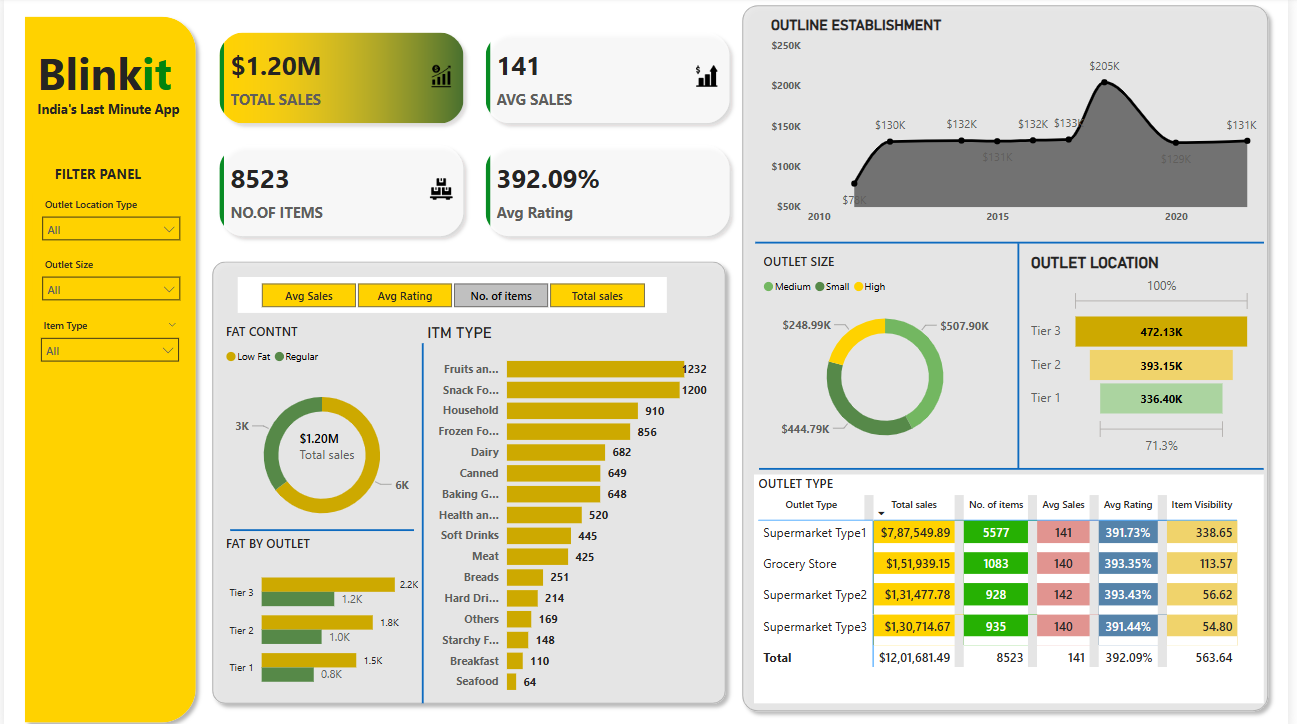

The dashboard page shown, as its layout file describes it:
{"tool":"powerbi","page":{"name":"Page 1","canvas":[1400,800],"ordinal":0},"visuals":[{"type":"shape","box":[13.6,12.3,204.5,788],"z":0},{"type":"textbox","box":[31.4,45,186.8,75],"z":1000},{"type":"textbox","box":[31.4,107.7,170.4,83.2],"z":2000},{"type":"cardVisual","fields":{"Data":["BlinkIT Grocery Data.Total sales","BlinkIT Grocery Data.Avg Sales","BlinkIT Grocery Data.No. of items","BlinkIT Grocery Data.Avg Rating"]},"box":[218.1,21.8,591.7,257.7],"z":3000},{"type":"shape","box":[218.1,279.5,578.1,500.3],"z":4000},{"type":"donutChart","title":"FAT CONTNT ","fields":{"Y":["BlinkIT Grocery Data.No. of items"],"Category":["BlinkIT Grocery Data.Item Fat Content"]},"box":[237.2,355.8,219.5,242.7],"z":5000},{"type":"slicer","fields":{"Values":["Metrics.Metrics"]},"box":[254.9,305.4,467.6,39.5],"z":6000},{"type":"cardVisual","fields":{"Data":["BlinkIT Grocery Data.Total sales"]},"box":[305.4,441.7,113.2,96.8],"z":7000},{"type":"clusteredBarChart","title":"FAT BY OUTLET","fields":{"Y":["BlinkIT Grocery Data.No. of items"],"Category":["BlinkIT Grocery Data.Outlet Location Type"],"Series":["BlinkIT Grocery Data.Item Fat Content"]},"box":[237.2,586.2,219.5,184.1],"z":8000},{"type":"shape","box":[246.8,576.7,200.4,9.5],"z":9000},{"type":"barChart","title":"ITM TYPE","fields":{"Y":["BlinkIT Grocery Data.No. of items"],"Category":["BlinkIT Grocery Data.Item Type"]},"box":[456.7,355.8,314.9,414.5],"z":10000},{"type":"shape","box":[444.4,377.6,24.5,392.6],"z":11000},{"type":"shape","box":[796.2,0,591.7,788],"z":12000},{"type":"lineChart","title":"OUTLINE ESTABLISHMENT","fields":{"Y":["BlinkIT Grocery Data.Total sales"],"Category":["BlinkIT Grocery Data.Outlet Establishment Year"]},"box":[831.6,21.8,542.6,234.5],"z":13000},{"type":"shape","box":[819.4,256.3,554.9,23.2],"z":14000},{"type":"donutChart","title":"OUTLET SIZE","fields":{"Y":["BlinkIT Grocery Data.Total sales"],"Category":["BlinkIT Grocery Data.Outlet Size"]},"box":[823.5,279.5,275.4,225],"z":15000},{"type":"shape","box":[1097.5,268.6,17.7,245.4],"z":16000},{"type":"funnel","title":"OUTLET LOCATION ","fields":{"Category":["BlinkIT Grocery Data.Outlet Location Type"],"Y":["Sum(BlinkIT Grocery Data.Sales)"]},"box":[1115.2,279.5,250.9,225],"z":17000},{"type":"shape","box":[823.5,508.5,550.8,12.3],"z":18000},{"type":"pivotTable","title":"OUTLET TYPE","fields":{"Rows":["BlinkIT Grocery Data.Outlet Type"],"Values":["BlinkIT Grocery Data.Total sales","BlinkIT Grocery Data.No. of items","BlinkIT Grocery Data.Avg Sales","BlinkIT Grocery Data.Avg Rating","Sum(BlinkIT Grocery Data.Item Visibility)"]},"box":[818,520.8,556.2,249.5],"z":19000},{"type":"slicer","fields":{"Values":["BlinkIT Grocery Data.Outlet Location Type"]},"box":[31.4,214,170.4,69.5],"z":20000},{"type":"slicer","fields":{"Values":["BlinkIT Grocery Data.Outlet Size"]},"box":[31.4,279.5,170.4,66.8],"z":21000},{"type":"slicer","fields":{"Values":["BlinkIT Grocery Data.Item Type"]},"box":[30,346.3,170.4,69.5],"z":22000},{"type":"textbox","box":[50.4,177.2,349,36.8],"z":23000}]}

Visuals, with their boxes in screenshot pixels (x1, y1, x2, y2), scaled from the page's 1400x800 canvas onto the 1297x724 screenshot:
shape: x1=13 y1=11 x2=202 y2=723
textbox: x1=29 y1=41 x2=202 y2=109
textbox: x1=29 y1=97 x2=187 y2=173
cardVisual - BlinkIT Grocery Data.Total sales x BlinkIT Grocery Data.Avg Sales: x1=202 y1=20 x2=750 y2=253
shape: x1=202 y1=253 x2=738 y2=706
"FAT CONTNT " donutChart: x1=220 y1=322 x2=423 y2=542
slicer - Metrics.Metrics: x1=236 y1=276 x2=669 y2=312
cardVisual - BlinkIT Grocery Data.Total sales: x1=283 y1=400 x2=388 y2=487
"FAT BY OUTLET" clusteredBarChart: x1=220 y1=531 x2=423 y2=697
shape: x1=229 y1=522 x2=414 y2=531
"ITM TYPE" barChart: x1=423 y1=322 x2=715 y2=697
shape: x1=412 y1=342 x2=434 y2=697
shape: x1=738 y1=0 x2=1286 y2=713
"OUTLINE ESTABLISHMENT" lineChart: x1=770 y1=20 x2=1273 y2=232
shape: x1=759 y1=232 x2=1273 y2=253
"OUTLET SIZE" donutChart: x1=763 y1=253 x2=1018 y2=457
shape: x1=1017 y1=243 x2=1033 y2=465
"OUTLET LOCATION " funnel: x1=1033 y1=253 x2=1266 y2=457
shape: x1=763 y1=460 x2=1273 y2=471
"OUTLET TYPE" pivotTable: x1=758 y1=471 x2=1273 y2=697
slicer - BlinkIT Grocery Data.Outlet Location Type: x1=29 y1=194 x2=187 y2=257
slicer - BlinkIT Grocery Data.Outlet Size: x1=29 y1=253 x2=187 y2=313
slicer - BlinkIT Grocery Data.Item Type: x1=28 y1=313 x2=186 y2=376
textbox: x1=47 y1=160 x2=370 y2=194
